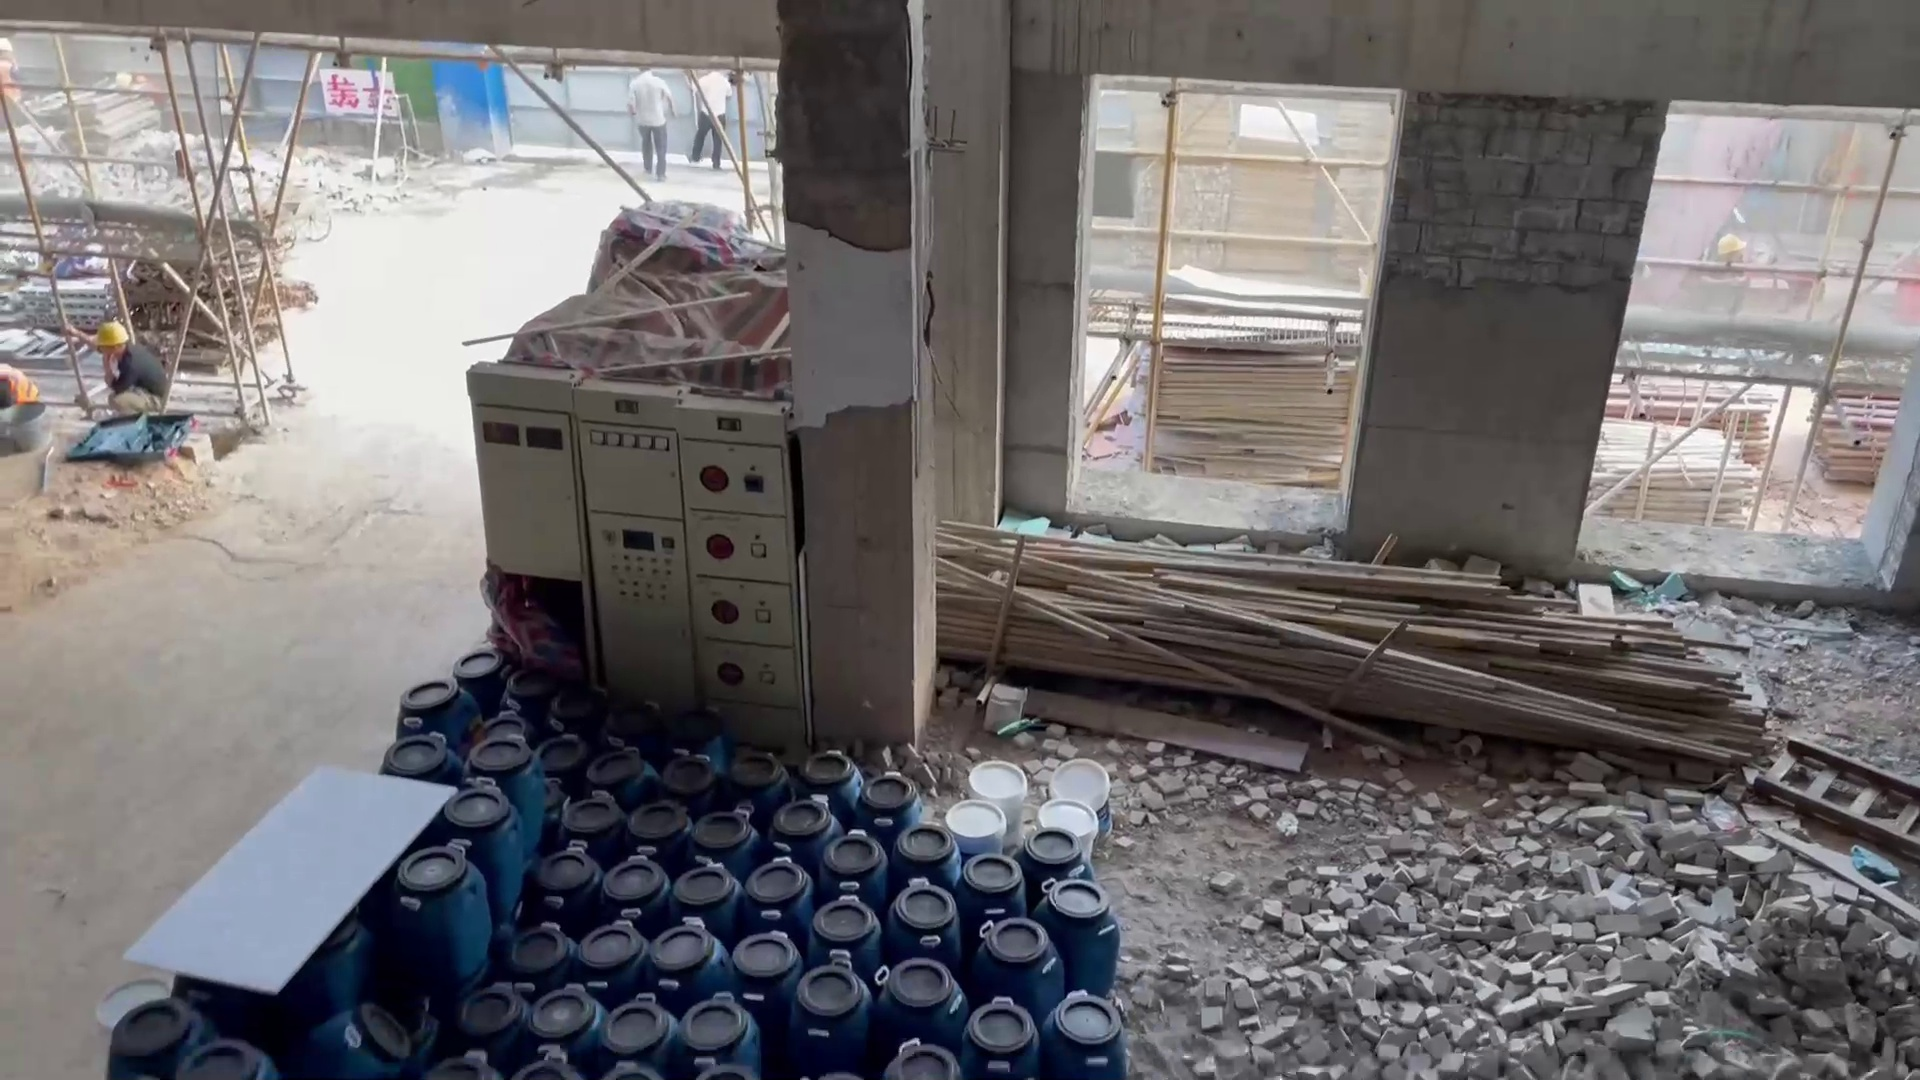helmet: (93, 318, 133, 350), (1715, 231, 1745, 256), (1, 34, 15, 57)
person: (93, 315, 175, 429), (623, 60, 676, 192), (687, 56, 739, 176), (1, 360, 40, 442), (1, 34, 23, 114)
vest: (3, 364, 42, 403), (1, 58, 17, 103)
